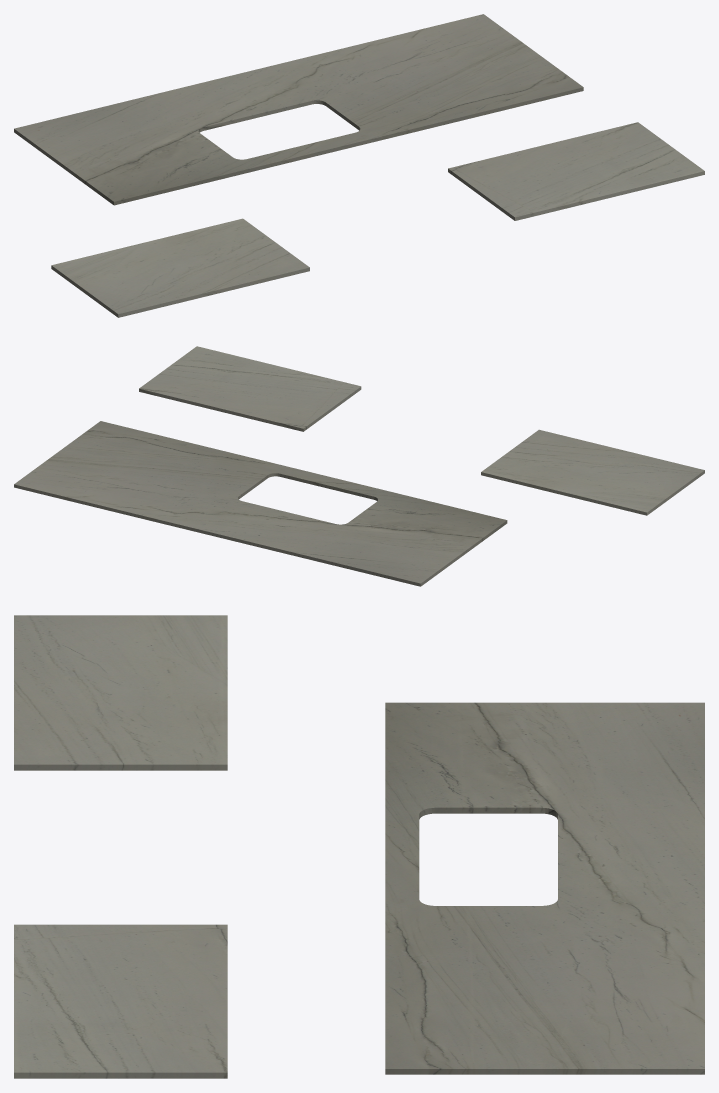
Rendered from Layout 2.glb.
3 views of the same model, one above another, from view 1: azimuth 30°, elevation 25°; view 2: azimuth 150°, elevation 25°; view 3: azimuth 270°, elevation 25° (orthographic). The views are drawn at different scales.
Visible parts, largest first — view 1: texturedMesh (×18); view 2: texturedMesh (×18); view 3: texturedMesh (×21).
Part boxes in pixels (box(x1,y1,x2,y2)): texturedMesh (×18): box(14, 14, 704, 308); texturedMesh (×18): box(14, 346, 698, 583); texturedMesh (×21): box(14, 615, 704, 1072).
Size of the model in its own units: 3.34 by 0.02 by 2.13.
Materials: 14 (14 with a texture image).
